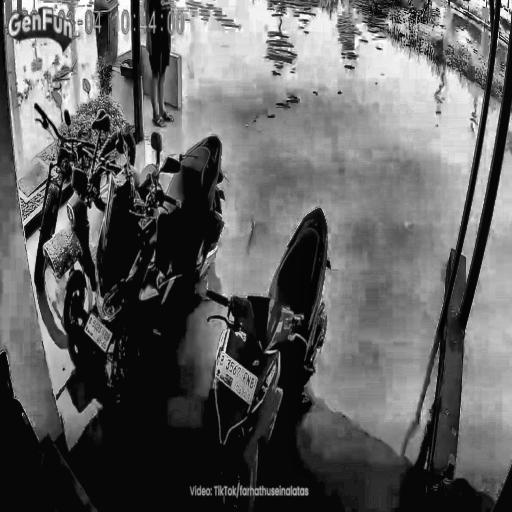banjir: (163, 0, 482, 449), (459, 119, 512, 493)
